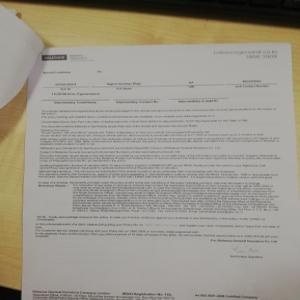image: (42, 108, 286, 214), (42, 51, 68, 61)
text: (33, 216, 281, 246)
